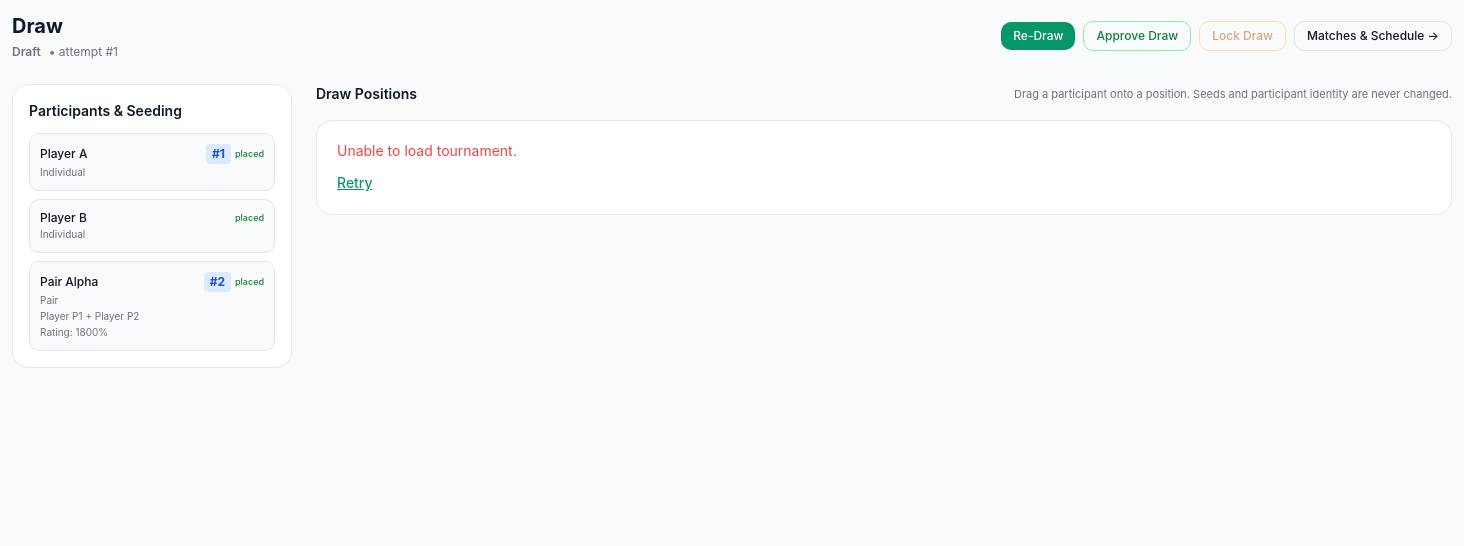
Test: TournamentDrawPage — F-02 fetch-error states › tournament failure: shows error + Retry in the board area (never the "Generate a draw" empty hint) while the participant sidebar still renders; Retry recovers t
expect the text "Unable to load tournament." is shown: met, box [337,142,517,159]
expect the text "Semi-final" is not shown: met
Click the button "Retry": (355, 183) [337,173,373,193]
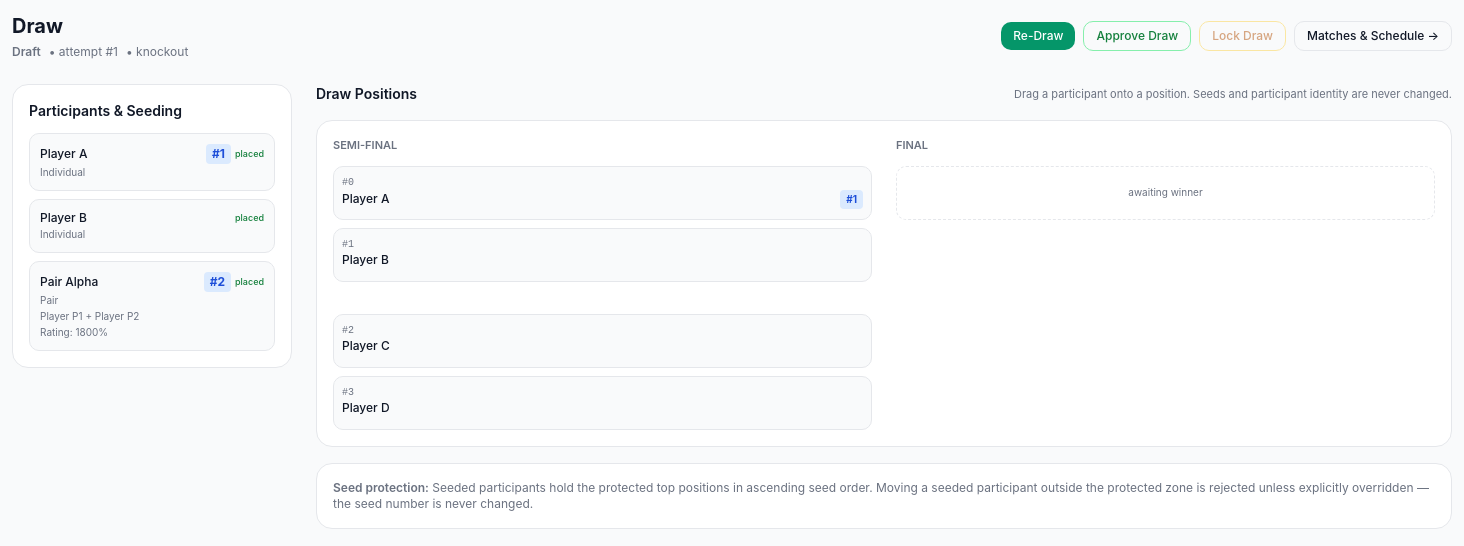
expect the text "Semi-final" is shown: met, box [333,138,397,152]
